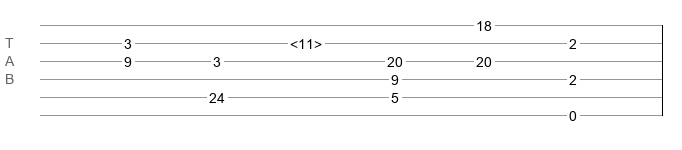0: (569, 108, 577, 118)
18: (476, 18, 492, 28)
2: (569, 72, 577, 82), (569, 36, 577, 46)
20: (387, 54, 403, 64), (476, 54, 492, 64)
24: (209, 90, 225, 100)
3: (124, 36, 132, 46), (213, 54, 221, 64)
5: (391, 90, 399, 100)
9: (124, 54, 132, 64), (391, 72, 399, 82)
harmonic: (290, 36, 322, 46)
